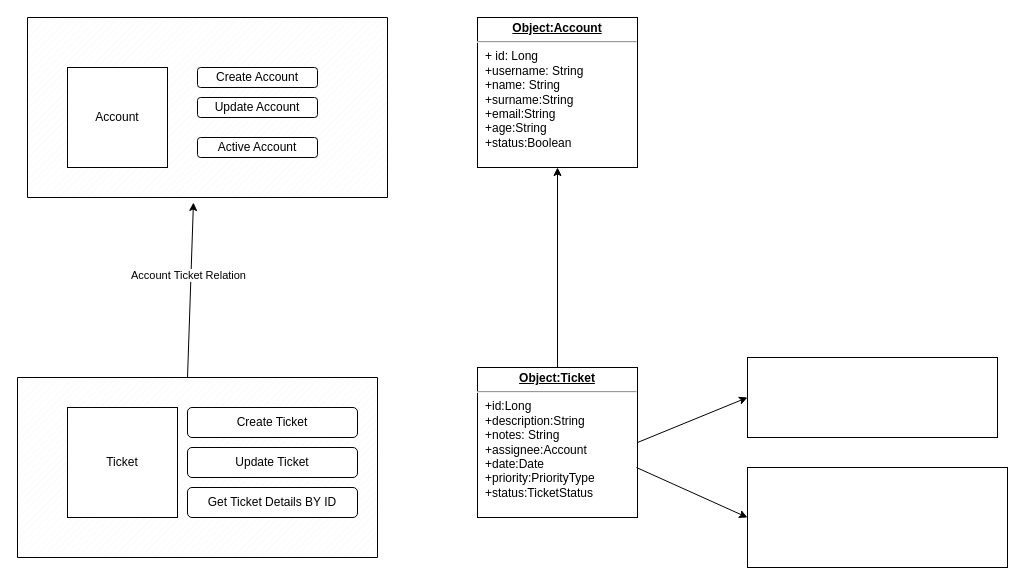
The diagram is 1025 pixels wide and 585 high, and some of its shapes have lost their labels. The centre of each missing label's shape, as x and y in pixels:
Object:PriorityType (ENUM) +URGENT +LOW +HIGH: point 872,397
Object:TicketStatus (ENUM) +OPEN +IN_PROGRESS +RESOLVED +CLOSED: point 877,517
